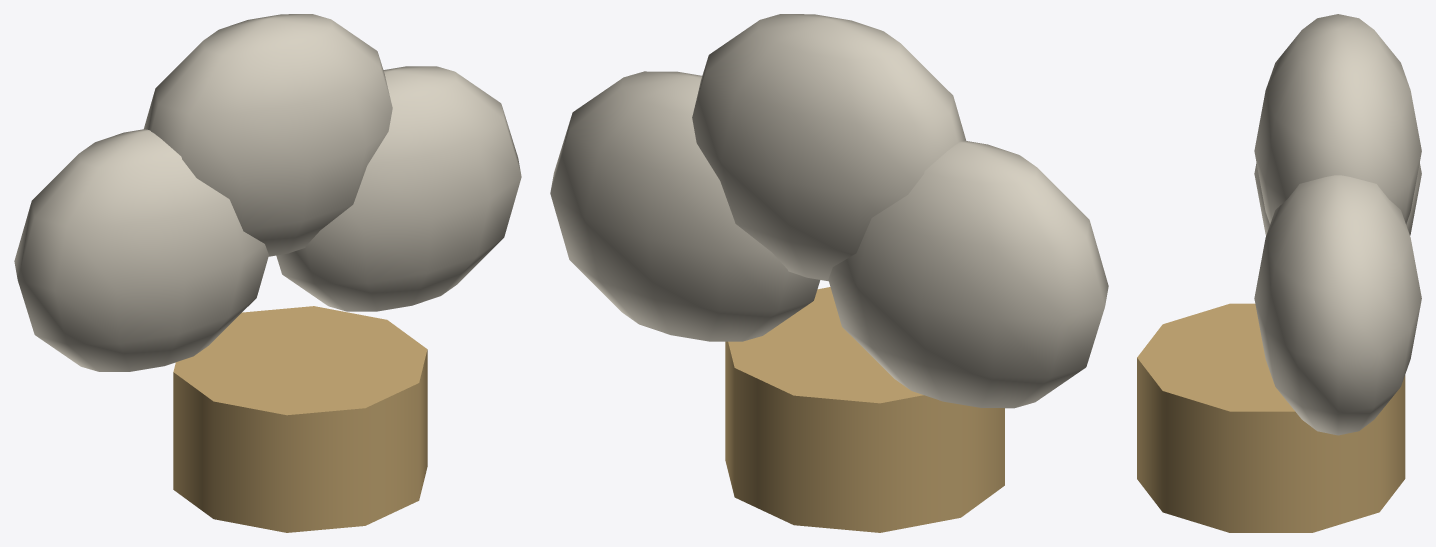
Rendered from drum.glb.
The picture shows the model from 3 angles, left to right: view 1: azimuth 30°, elevation 25°; view 2: azimuth 150°, elevation 25°; view 3: azimuth 270°, elevation 25°; orthographic projection. The views are drawn at different scales.
Visible parts, largest first — view 1: drum; view 2: drum; view 3: drum.
Boxes of the visible parts, x1,y1,x2,y2 form: drum: (14, 14, 521, 532); drum: (550, 14, 1108, 532); drum: (1137, 14, 1421, 532).
Bounding box in the file's own units: 0.4005 × 0.333 × 0.1913.
